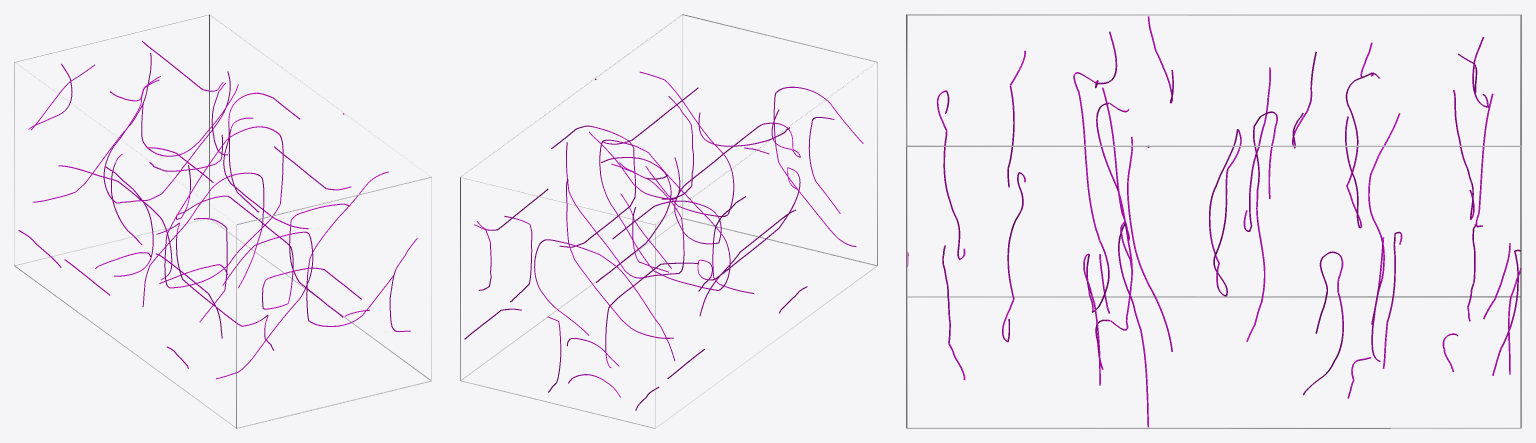
The picture shows the model from 3 angles, left to right: view 1: azimuth 30°, elevation 25°; view 2: azimuth 150°, elevation 25°; view 3: azimuth 270°, elevation 25°; orthographic projection. The views are drawn at different scales.
Parts seen in each view (by area): view 1: Shape_IndexedLineSet.001, Shape_IndexedLineSet; view 2: Shape_IndexedLineSet.001, Shape_IndexedLineSet; view 3: Shape_IndexedLineSet.001, Shape_IndexedLineSet.
Part boxes in pixels (x1,y1,x2,y2): Shape_IndexedLineSet.001: [18, 41, 417, 379]; Shape_IndexedLineSet: [14, 14, 431, 428]; Shape_IndexedLineSet.001: [464, 71, 863, 410]; Shape_IndexedLineSet: [460, 14, 877, 428]; Shape_IndexedLineSet.001: [907, 16, 1521, 427]; Shape_IndexedLineSet: [906, 14, 1521, 428].
Size of the model in its own units: 235 by 235 by 463.
